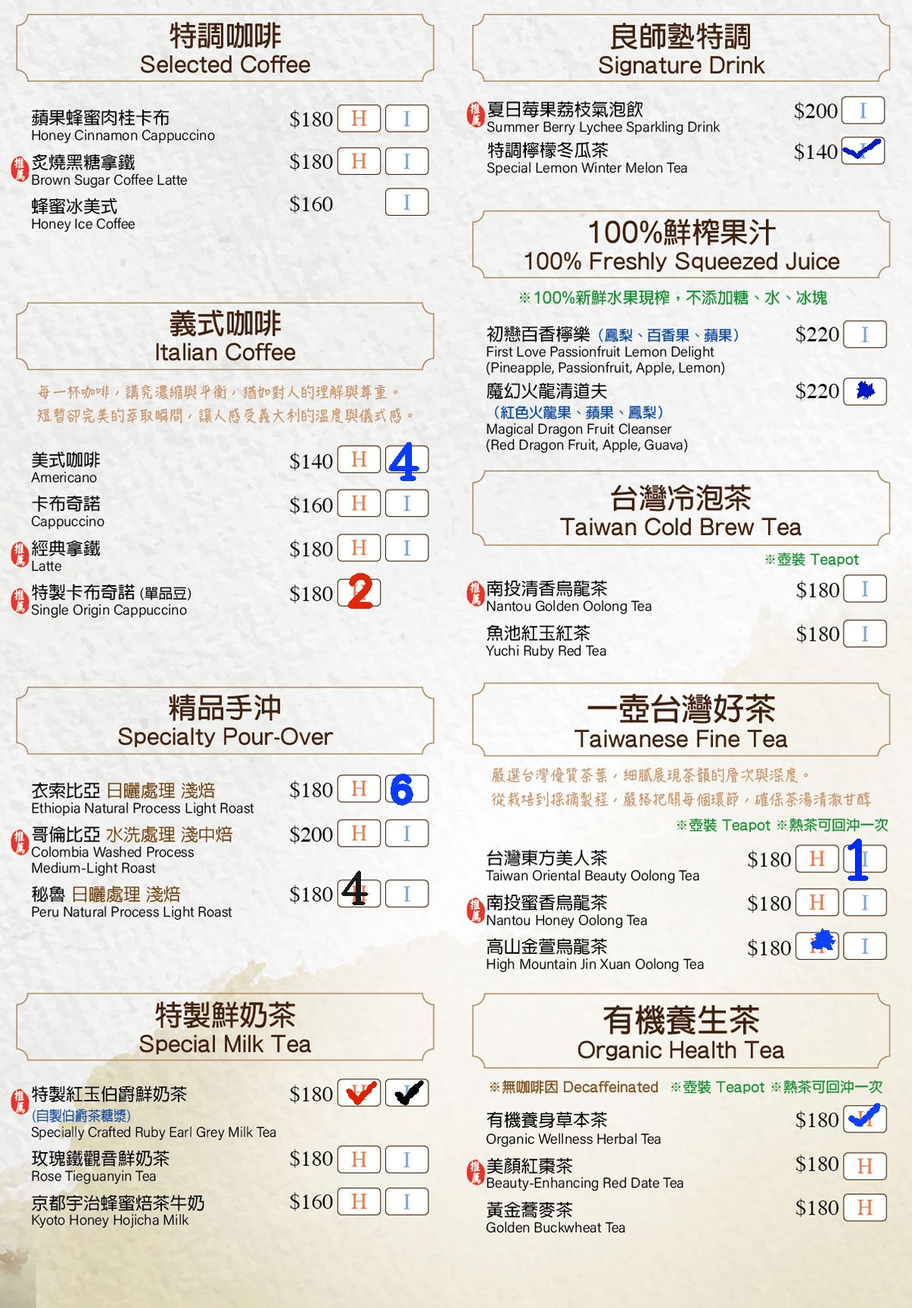marked_circle: (845, 378, 884, 402), (798, 933, 837, 956)
marked_number_1: (844, 845, 883, 869)
marked_number_2: (339, 579, 378, 603)
marked_number_4: (338, 879, 377, 903), (388, 446, 426, 470)
marked_number_6: (387, 775, 426, 799)
marked_tick: (842, 138, 881, 162), (342, 1080, 381, 1104), (846, 1106, 885, 1129), (391, 1081, 429, 1104)
